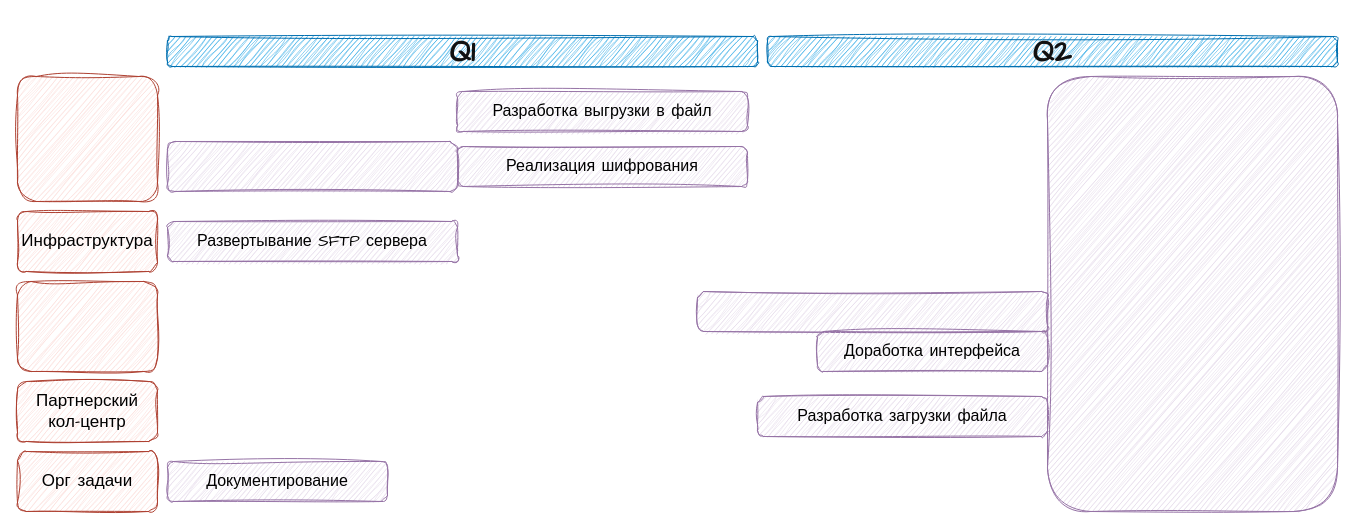
Image size: 1355x529. Some labels were removed from this diagram. Here are the shapes that lost their labels. From the top down, the centre of each, then its label:
At point 87,139: "Сервис ставок".
At point 312,166: "Разработка API для интеграции с кол-центром".
At point 872,311: "Интеграция с сервисом ставок".
At point 1192,294: "Тестирование и запуск".
At point 87,326: "Кол-центр".
